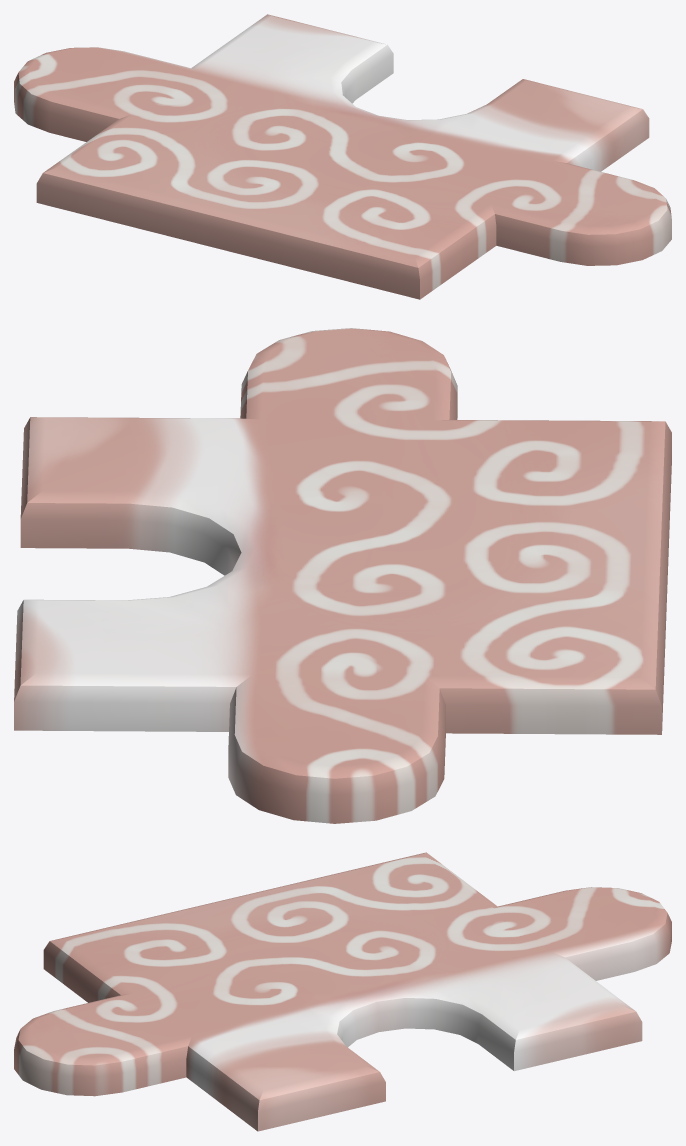
The model's file is PuzzlePiece4.fbx.
3 renders of one model, top to bottom at view 1: azimuth 30°, elevation 25°; view 2: azimuth 150°, elevation 25°; view 3: azimuth 270°, elevation 25°, orthographic. The views are drawn at different scales.
Visible parts, largest first — view 1: polySurface4; view 2: polySurface4; view 3: polySurface4.
Part boxes in pixels (box(x1,y1,x2,y2)): polySurface4: box(14, 14, 671, 299); polySurface4: box(14, 328, 671, 823); polySurface4: box(14, 852, 671, 1131).
Bounding box in the file's own units: 1.36 × 0.0821 × 1.5.
Materials: 2 (1 with a texture image).
